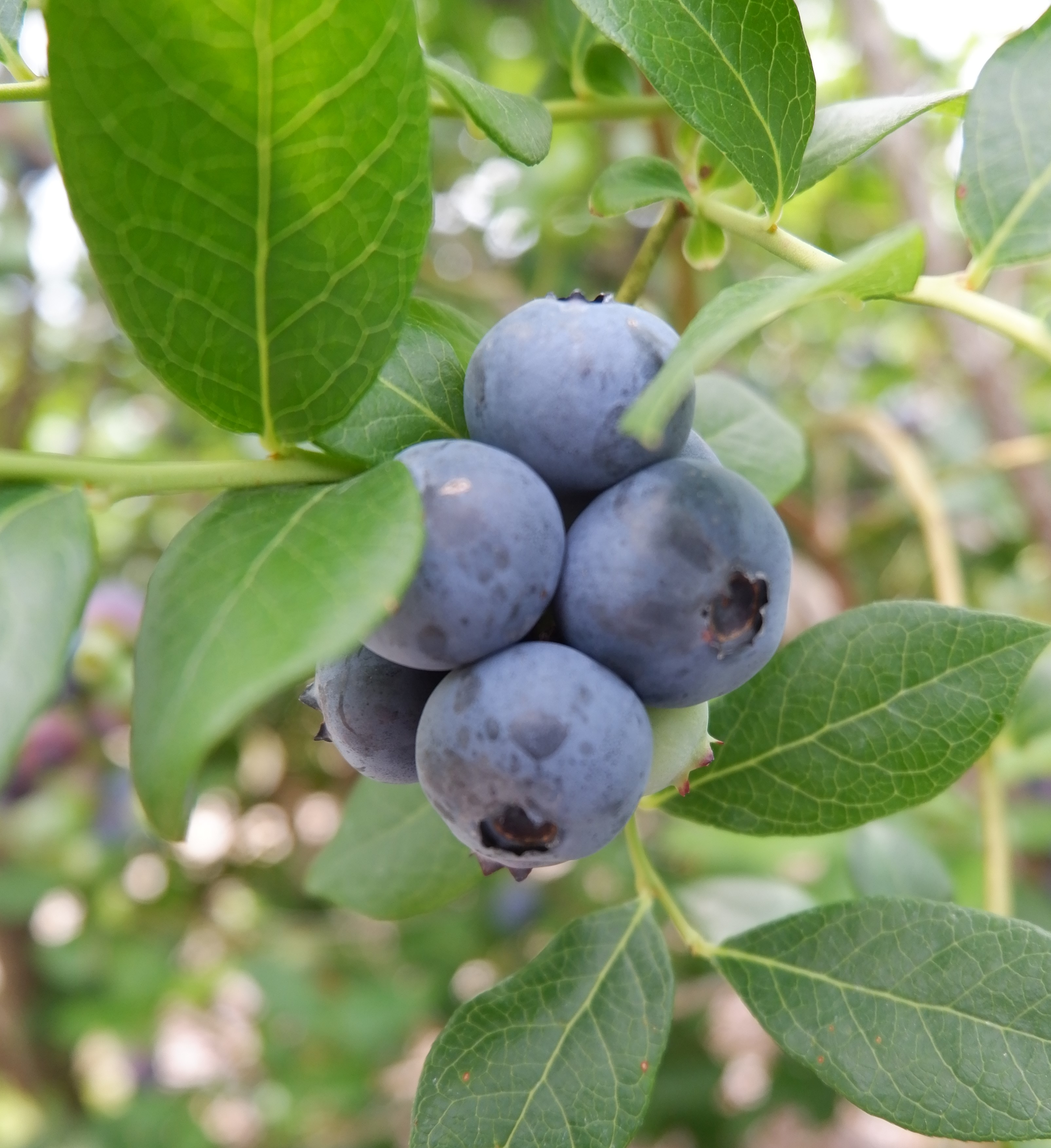Immature: (647, 705, 713, 795)
Mature: (419, 643, 648, 883), (562, 468, 788, 700), (467, 295, 693, 490), (370, 443, 562, 665), (306, 646, 443, 783), (663, 431, 724, 467)
